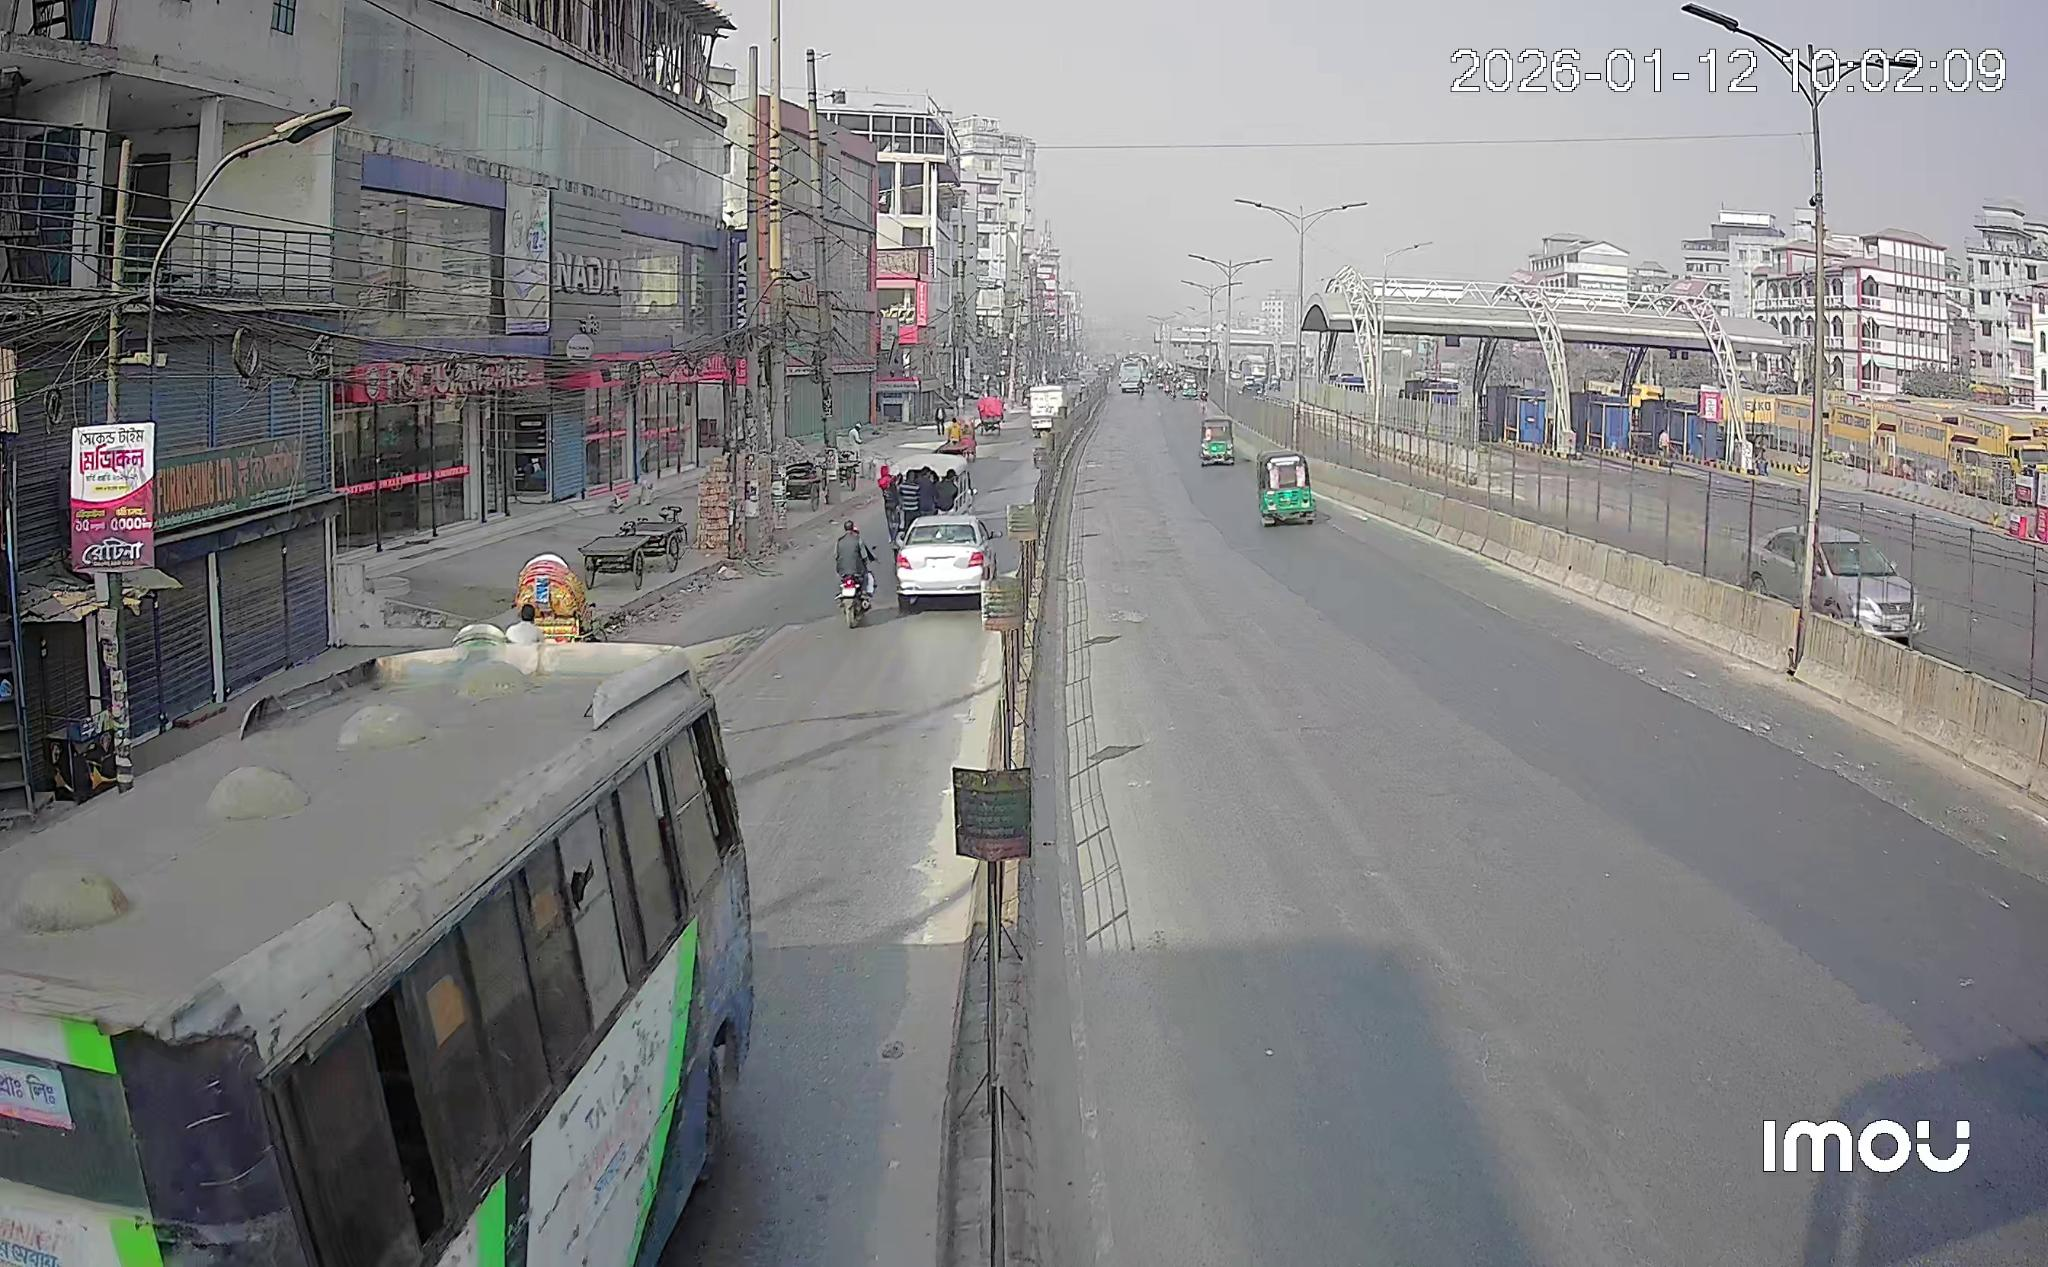Bus: (0, 626, 753, 1267)
CNG-Tempo: (876, 455, 976, 549), (1254, 451, 1317, 524), (1200, 417, 1233, 465), (903, 493, 907, 495)
Cycle Rickshaw: (515, 556, 595, 641)
Motorcycle: (835, 519, 876, 628)
Private-Sedan Car: (1815, 525, 1924, 644), (895, 514, 996, 612), (1745, 524, 1802, 604)
